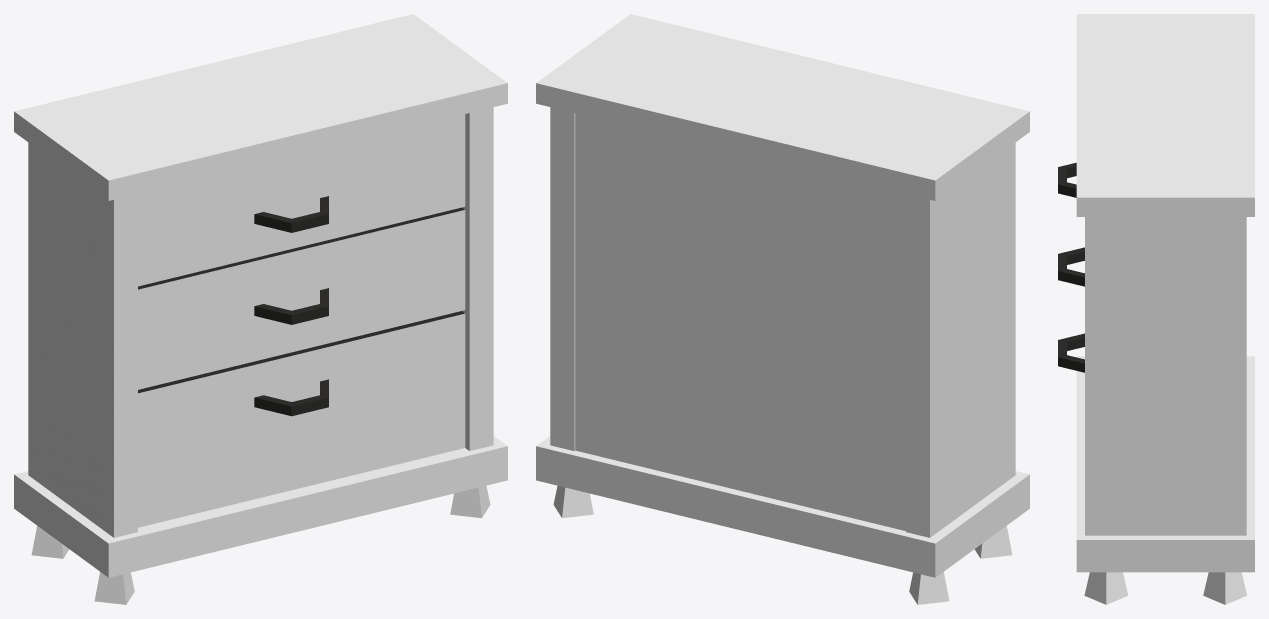
The model's file is Drawer_3A.fbx.
The picture shows the model from 3 angles, left to right: view 1: azimuth 30°, elevation 25°; view 2: azimuth 150°, elevation 25°; view 3: azimuth 270°, elevation 25°; orthographic projection. The views are drawn at different scales.
Visible parts, largest first — view 1: polySurface325; view 2: polySurface325; view 3: polySurface325.
Boxes of the visible parts, x1=… form: polySurface325: x1=14, y1=14, x2=507, y2=604; polySurface325: x1=536, y1=14, x2=1029, y2=604; polySurface325: x1=1058, y1=14, x2=1254, y2=604.
Size of the model in its own units: 1.83 by 1.9 by 0.8282.
Materials: 1 (1 with a texture image).
